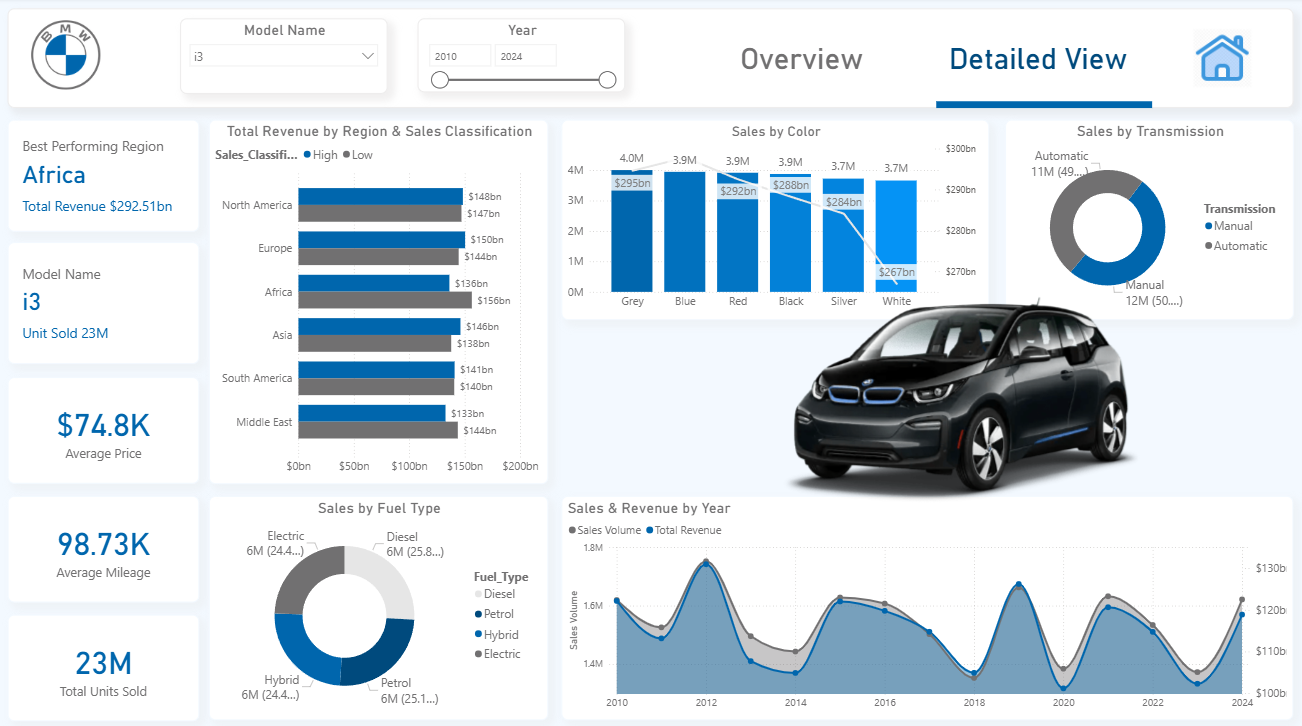

This screenshot's page, from the dashboard's own definition file:
{"tool":"powerbi","page":{"name":"Detailed View","canvas":[1920,1080],"ordinal":2},"visuals":[{"type":"cardVisual","fields":{"Data":["Min(BMW_Car_Sales_Classification.Region)"]},"box":[18.5,179.1,282,164.7],"z":0},{"type":"card","fields":{"Values":["Measures Table.Average Price"]},"box":[18.5,557.8,282,156.4],"z":1000},{"type":"cardVisual","fields":{"Data":["Min(BMW_Car_Sales_Classification.Model)"]},"box":[18.5,360.2,282,179.1],"z":2000},{"type":"card","fields":{"Values":["Measures Table.Average Mileage"]},"box":[18.5,732.8,282,156.4],"z":3000},{"type":"shape","box":[18.5,16.5,1887.5,146.1],"z":4000},{"type":"card","fields":{"Values":["Measures Table.Total Units Sold"]},"box":[18.5,905.7,282,156.4],"z":5000},{"type":"image","box":[45.3,28.8,115.3,111.1],"z":6000},{"type":"textbox","box":[1035.3,59.7,298.5,80.3],"z":7000},{"type":"shape","box":[1381.1,113,317,88.5],"z":8000},{"type":"textbox","box":[1362.6,59.7,335.5,80.3],"z":9000},{"type":"image","box":[1751.6,35,98.8,109.1],"z":10000},{"type":"lineChart","title":"Sales & Revenue by Year","fields":{"Category":["BMW_Car_Sales_Classification.Year"],"Y":["Sum(BMW_Car_Sales_Classification.Sales_Volume)"],"Y2":["Measures Table.Total Revenue"]},"box":[831.6,732.8,1074.4,329.3],"z":11000},{"type":"lineStackedColumnComboChart","title":"Sales by Color","fields":{"Category":["BMW_Car_Sales_Classification.Color"],"Y":["Sum(BMW_Car_Sales_Classification.Sales_Volume)"],"Y2":["Measures Table.Total Revenue"]},"box":[831.6,179.1,627.8,294.3],"z":12000},{"type":"donutChart","title":"Sales by Fuel Type","fields":{"Category":["BMW_Car_Sales_Classification.Fuel_Type"],"Y":["Sum(BMW_Car_Sales_Classification.Sales_Volume)"]},"box":[312.9,732.8,498.1,329.3],"z":13000},{"type":"slicer","title":"Model Name","fields":{"Values":["BMW_Car_Sales_Classification.Model"]},"box":[271.7,30.9,304.6,111.1],"z":14000},{"type":"slicer","title":"Year","fields":{"Values":["BMW_Car_Sales_Classification.Year"]},"box":[619.6,30.9,304.6,109.1],"z":15000},{"type":"shape","box":[1035.3,20.6,298.5,144.1],"z":16000},{"type":"clusteredBarChart","title":"Total Revenue by Region & Sales Classification","fields":{"Category":["BMW_Car_Sales_Classification.Region"],"Y":["Measures Table.Total Revenue"],"Series":["BMW_Car_Sales_Classification.Sales_Classification"]},"box":[312.9,179.1,498.1,535.2],"z":17000},{"type":"donutChart","title":"Sales by Transmission","fields":{"Category":["BMW_Car_Sales_Classification.Transmission"],"Y":["Sum(BMW_Car_Sales_Classification.Sales_Volume)"]},"box":[1482,179.1,424,294.3],"z":18000},{"type":"imageDB603108E3FF4EBFB8047F5653368E8C","fields":{"imageUrl":["BMW Images.URL"],"imageTitle":["BMW_Car_Sales_Classification.Model"]},"box":[983.9,360.2,922.1,428.1],"z":19000}]}

Visuals, with their boxes in screenshot pixels (x1, y1, x2, y2), scaled from the page's 1920x1080 canvas onto the 1302x726 screenshot:
cardVisual - Min(BMW_Car_Sales_Classification.Region): (13,120,204,231)
card - Measures Table.Average Price: (13,375,204,480)
cardVisual - Min(BMW_Car_Sales_Classification.Model): (13,242,204,363)
card - Measures Table.Average Mileage: (13,493,204,598)
shape: (13,11,1293,109)
card - Measures Table.Total Units Sold: (13,609,204,714)
image: (31,19,109,94)
textbox: (702,40,904,94)
shape: (937,76,1152,135)
textbox: (924,40,1152,94)
image: (1188,24,1255,97)
"Sales & Revenue by Year" lineChart: (564,493,1293,714)
"Sales by Color" lineStackedColumnComboChart: (564,120,990,318)
"Sales by Fuel Type" donutChart: (212,493,550,714)
"Model Name" slicer: (184,21,391,95)
"Year" slicer: (420,21,627,94)
shape: (702,14,904,111)
"Total Revenue by Region & Sales Classification" clusteredBarChart: (212,120,550,480)
"Sales by Transmission" donutChart: (1005,120,1293,318)
imageDB603108E3FF4EBFB8047F5653368E8C - BMW Images.URL x BMW_Car_Sales_Classification.Model: (667,242,1293,530)
